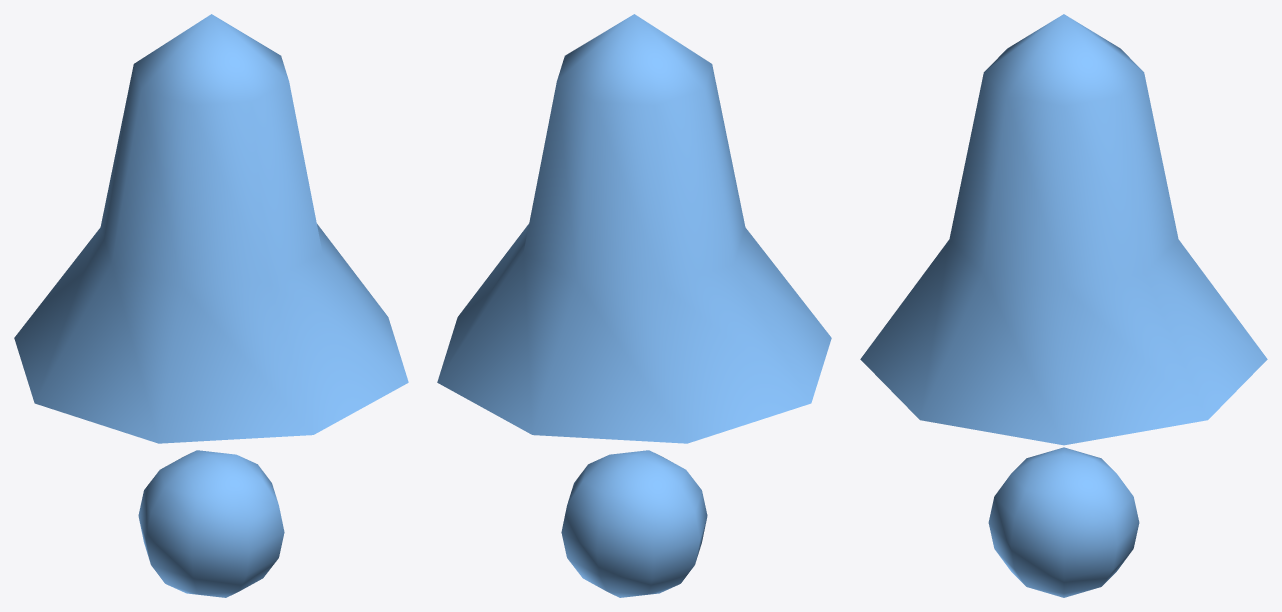
Rendered from female_hand_model.glb.
The picture shows the model from 3 angles, left to right: view 1: azimuth 30°, elevation 25°; view 2: azimuth 150°, elevation 25°; view 3: azimuth 270°, elevation 25°; orthographic projection.
Parts seen in each view (by area): view 1: female_hand_model; view 2: female_hand_model; view 3: female_hand_model.
Boxes of the visible parts, x1,y1,x2,y2 form: female_hand_model: (14, 14, 408, 597); female_hand_model: (437, 14, 831, 597); female_hand_model: (860, 14, 1267, 597).
Size of the model in its own units: 55.25 by 86.34 by 55.25.
